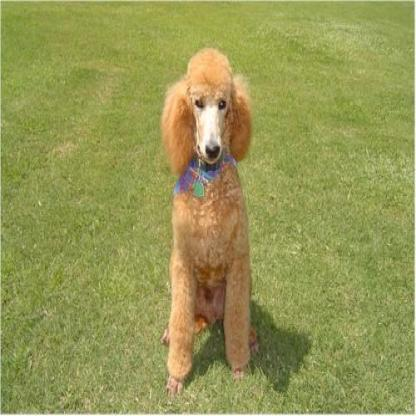standard_poodle: (159, 46, 254, 400)
